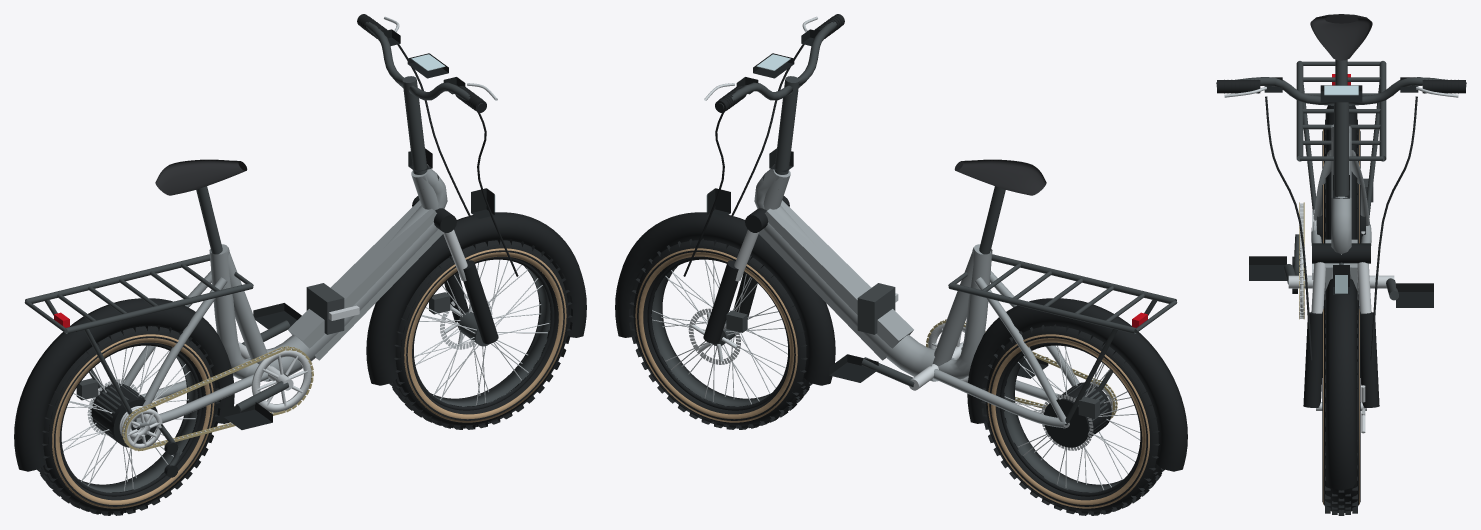
Rendered from aventon-sinch.glb.
3 views of the same model, side by side, from view 1: azimuth 30°, elevation 25°; view 2: azimuth 150°, elevation 25°; view 3: azimuth 270°, elevation 25° (orthographic). The views are drawn at different scales.
Parts seen in each view (by area): view 1: Bodywork | black, Chassis | grey, BatteryMount | grey, FrontWheel | rubber, RearWheel | rubber, Bodywork | graphite, FrontWheel | tan, RearWheel | tan, Drive | steel, FrontWheel | graphite, FrontWheel | steel, Cockpit | graphite (+13 smaller); view 2: Bodywork | black, Chassis | grey, BatteryMount | grey, FrontWheel | rubber, RearWheel | rubber, Bodywork | graphite, FrontWheel | tan, RearWheel | tan, FrontWheel | steel, RearWheel | graphite, FrontWheel | graphite, Cockpit | graphite (+12 smaller); view 3: Bodywork | black, Bodywork | graphite, Fork | black, Cockpit | graphite, Chassis | grey, Cockpit | rubber, FrontWheel | rubber, Bodywork | seat, Drive | black, Fork | steel, Cockpit | black, Drive | steel (+8 smaller).
Part boxes in pixels (box(x1,y1,x2,y2)): Bodywork | black: box(14, 188, 586, 471); Chassis | grey: box(122, 164, 447, 428); BatteryMount | grey: box(263, 200, 442, 381); FrontWheel | rubber: box(389, 238, 572, 429); RearWheel | rubber: box(37, 324, 220, 515); Bodywork | graphite: box(24, 254, 253, 421); FrontWheel | tan: box(404, 248, 566, 422); RearWheel | tan: box(52, 334, 214, 508); Drive | steel: box(119, 342, 311, 448); FrontWheel | graphite: box(429, 266, 550, 406); FrontWheel | steel: box(414, 259, 549, 405); Cockpit | graphite: box(364, 22, 482, 174); Bodywork | black: box(615, 188, 1187, 471); Chassis | grey: box(754, 164, 1079, 428); BatteryMount | grey: box(759, 200, 938, 381); FrontWheel | rubber: box(629, 238, 812, 429); RearWheel | rubber: box(981, 324, 1164, 515); Bodywork | graphite: box(948, 254, 1177, 425); FrontWheel | tan: box(635, 248, 797, 422); RearWheel | tan: box(987, 334, 1149, 508); FrontWheel | steel: box(652, 259, 787, 404); RearWheel | graphite: box(1004, 355, 1123, 492); FrontWheel | graphite: box(651, 266, 769, 406); Cockpit | graphite: box(719, 22, 837, 174); Bodywork | black: box(1325, 105, 1357, 490); Bodywork | graphite: box(1296, 61, 1386, 264); Fork | black: box(1303, 243, 1379, 407); Cockpit | graphite: box(1216, 77, 1466, 196); Chassis | grey: box(1311, 124, 1371, 254); Cockpit | rubber: box(1217, 80, 1465, 360); FrontWheel | rubber: box(1322, 299, 1360, 515); Bodywork | seat: box(1310, 14, 1372, 60); Drive | black: box(1249, 256, 1433, 307); Fork | steel: box(1311, 262, 1371, 313); Cockpit | black: box(1224, 77, 1458, 198); Drive | steel: box(1288, 203, 1394, 318).
Bounding box in the file's own units: 1.83 × 1.16 × 0.6634.
